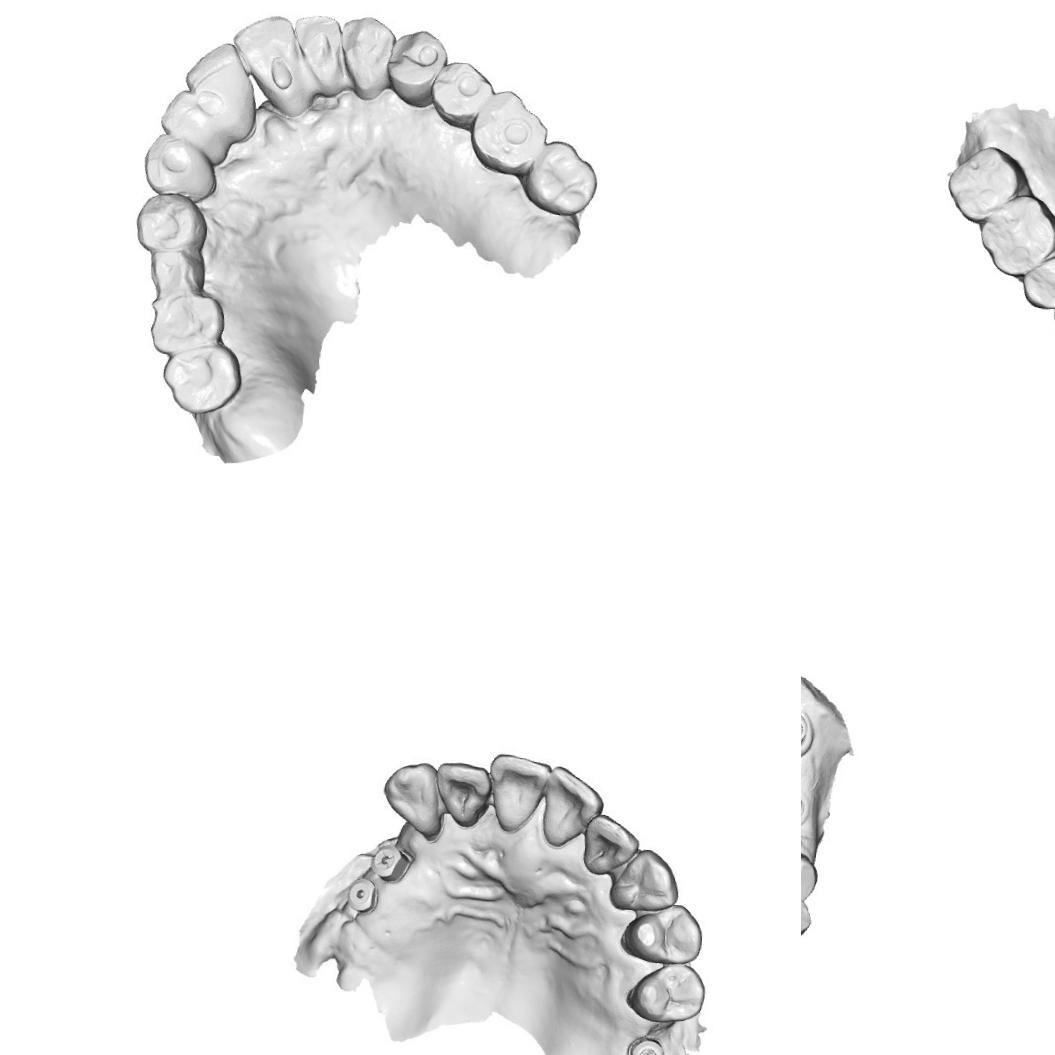canine: (138, 131, 218, 200), (337, 8, 395, 103), (607, 850, 684, 918), (380, 760, 445, 838)
implant: (347, 878, 381, 912), (627, 1032, 666, 1055)
implant_minus: (801, 708, 811, 753)
implant_plus: (370, 842, 408, 884)
incisor: (222, 8, 320, 120), (180, 41, 264, 136), (537, 764, 603, 852), (158, 84, 228, 160), (294, 3, 355, 89), (484, 750, 548, 830), (435, 760, 499, 832), (580, 816, 628, 873)
molar: (972, 188, 1055, 283), (941, 140, 1028, 228), (466, 87, 552, 176), (521, 136, 605, 218), (157, 346, 240, 419), (145, 294, 227, 356)
premolar: (623, 958, 713, 1027), (620, 902, 702, 972), (428, 58, 501, 130), (132, 188, 208, 250), (389, 30, 444, 95), (148, 244, 207, 300), (1016, 246, 1055, 315), (801, 844, 820, 903), (801, 889, 815, 945)
